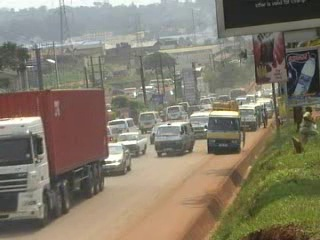Car: (98, 140, 135, 179), (148, 121, 164, 148), (201, 100, 214, 112)
